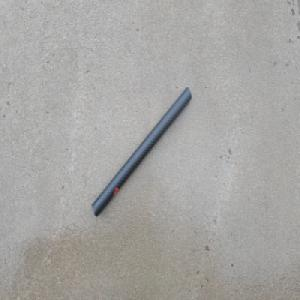LuggagePart: (90, 84, 192, 218)
